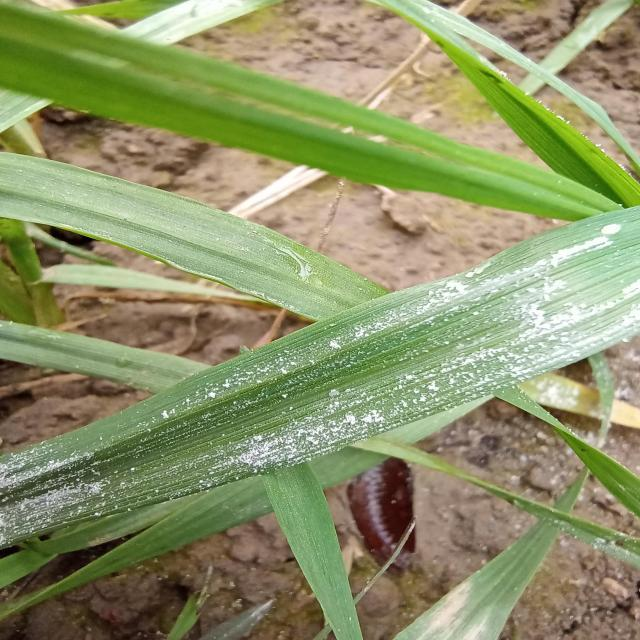Powdery_Mildew: (7, 205, 631, 548)
